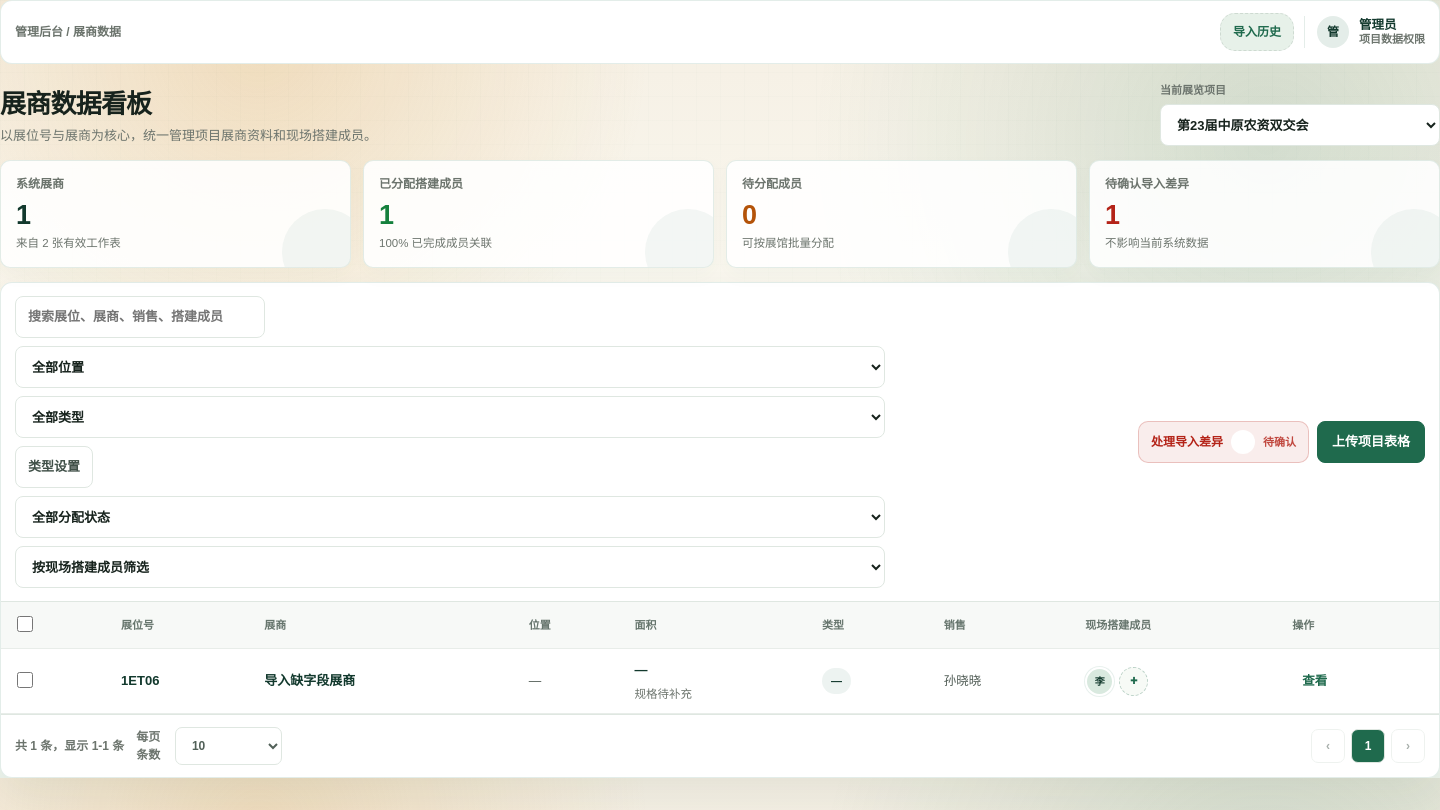
Test: ExhibitorDashboard › dismisses import diff with Escape and restores focus
The width and height of the screenshot is (1440, 810).
Click the button "处理导入差异 1 待确认" at (1224, 442), box [1138,421,1309,463]
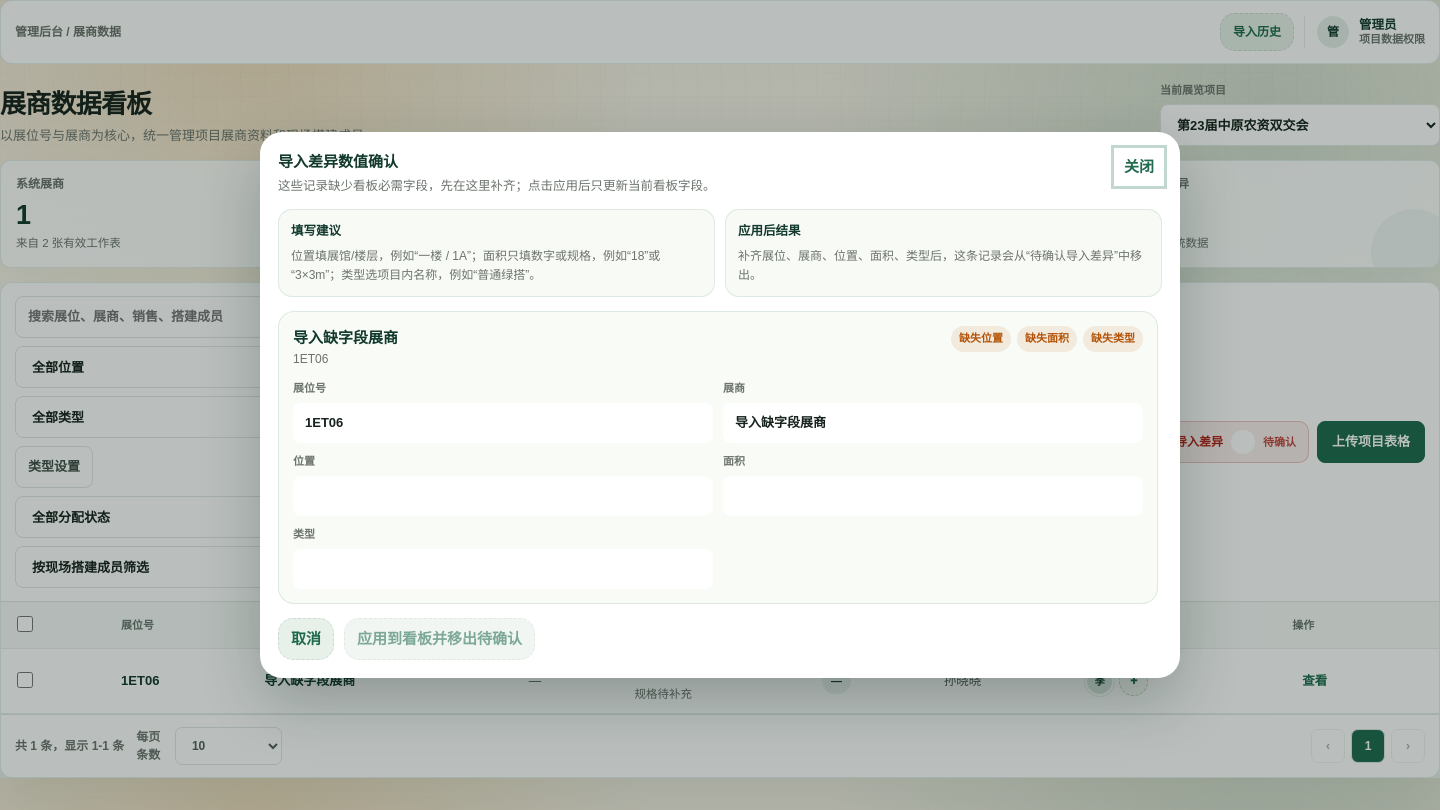
Press Escape
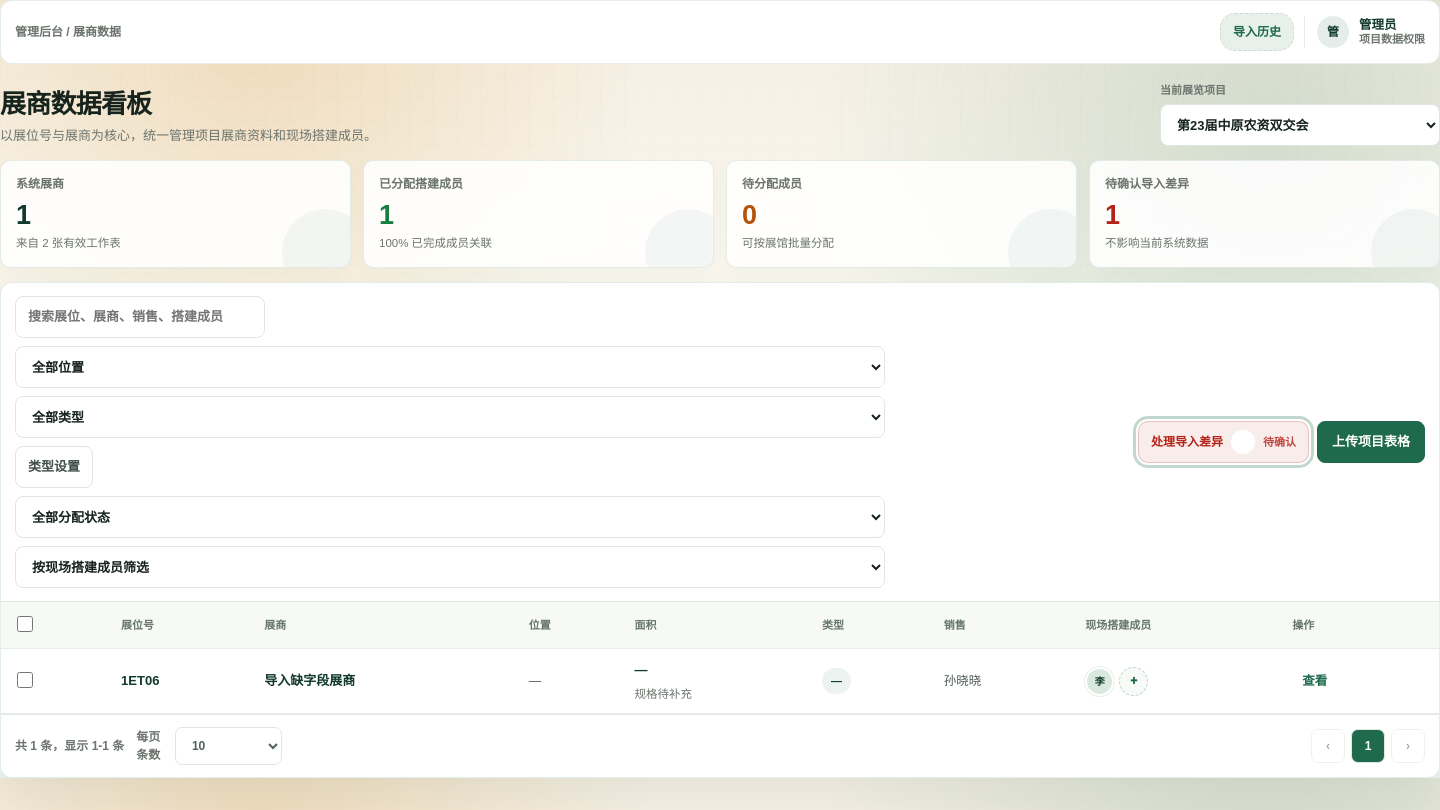
Check: the heading "导入差异数值确认" is gone
